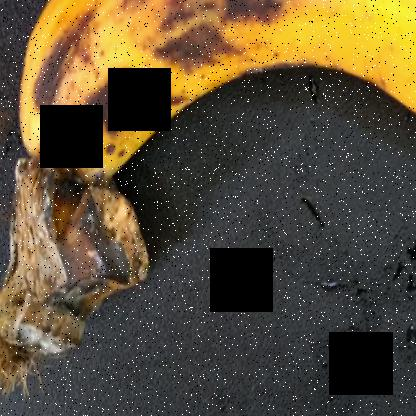overripe: (17, 0, 415, 173)
